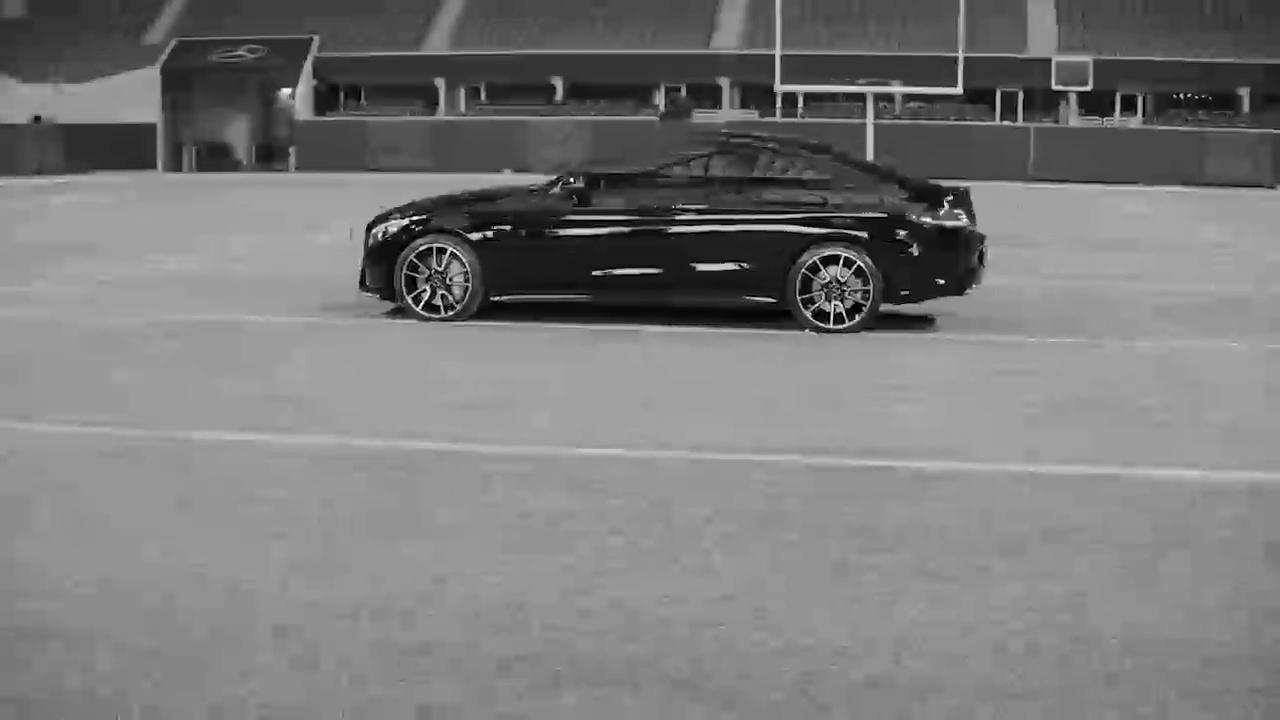car: (354, 130, 992, 338)
